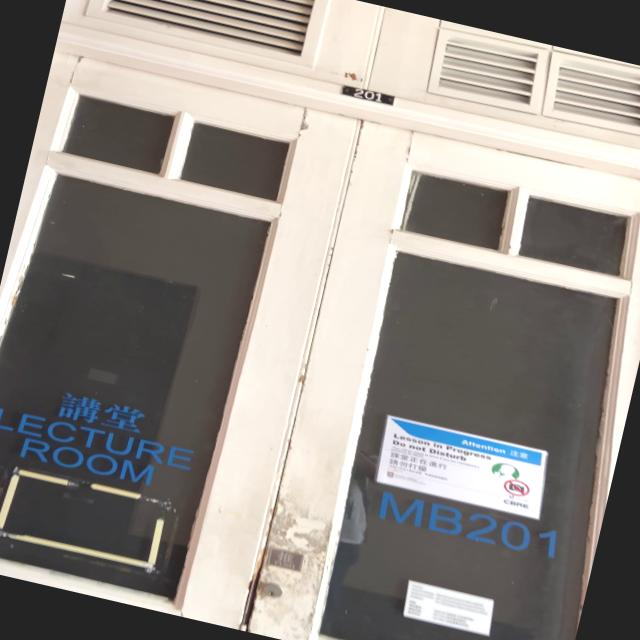room201: (337, 82, 399, 108)
room201Window: (370, 486, 570, 564)
